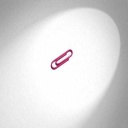Metal: (41, 44, 77, 76)
